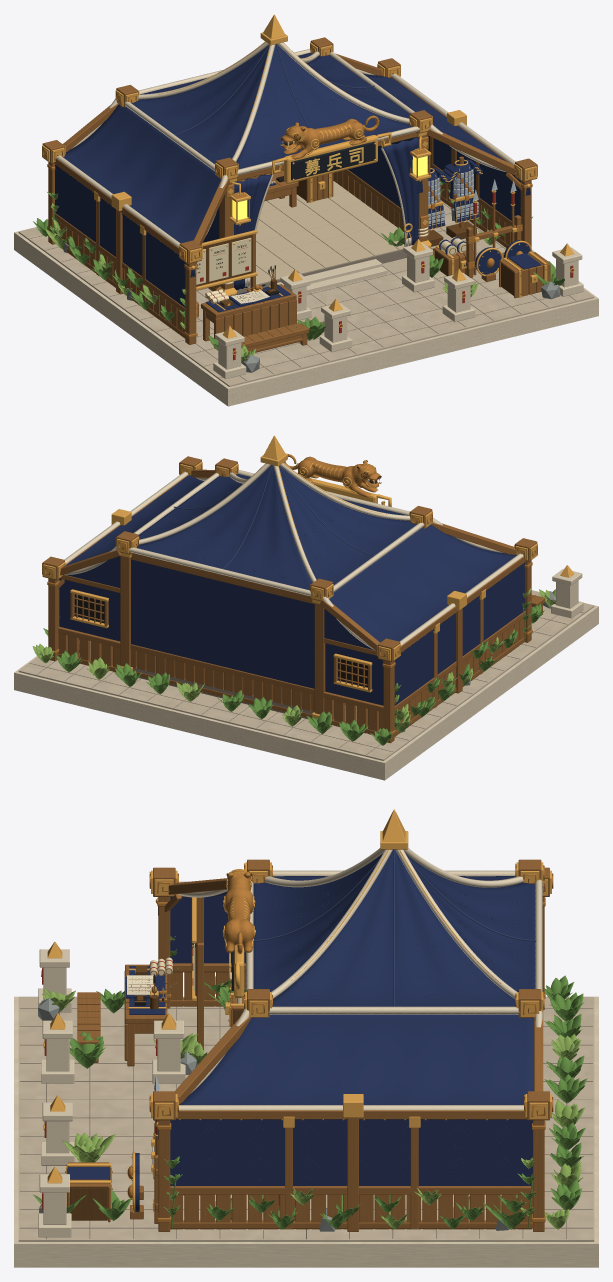
Rendered from recruitment-v20.glb.
The picture shows the model from 3 angles, top to bottom: view 1: azimuth 30°, elevation 25°; view 2: azimuth 150°, elevation 25°; view 3: azimuth 270°, elevation 25°; orthographic projection. The views are drawn at different scales.
Parts seen in each view (by area): view 1: SM_MB_Batch_6_MB_MAT_indigo_cloth.005, SM_MB_Batch_0_MB_MAT_ivory.005, SM_MB_Batch_1_MB_MAT_paving.005, SM_MB_Batch_10_MB_MAT_indigo_cloth.005, SM_MB_Batch_3_MB_MAT_ochre_wood.005, SM_MB_Batch_5_MB_MAT_light_wood.005, SM_MB_Batch_23_MB_MAT_warm_stone_tile.003, SM_MB_Batch_4_MB_MAT_antique_gold.005, SM_MB_Batch_7_MB_MAT_ivory.005, SM_MB_Batch_15_MB_MAT_tiger_bronze.005, SM_MB_Batch_21_MB_MAT_paper_leaf.003, SM_MB_Batch_2_MB_MAT_warm_mortar.005 (+9 smaller); view 2: SM_MB_Batch_6_MB_MAT_indigo_cloth.005, SM_MB_Batch_10_MB_MAT_indigo_cloth.005, SM_MB_Batch_0_MB_MAT_ivory.005, SM_MB_Batch_3_MB_MAT_ochre_wood.005, SM_MB_Batch_5_MB_MAT_light_wood.005, SM_MB_Batch_1_MB_MAT_paving.005, SM_MB_Batch_7_MB_MAT_ivory.005, SM_MB_Batch_4_MB_MAT_antique_gold.005, SM_MB_Batch_21_MB_MAT_paper_leaf.003, SM_MB_Batch_15_MB_MAT_tiger_bronze.005, SM_MB_Batch_24_MB_MAT_paper_leaf_light.003, SM_MB_Batch_2_MB_MAT_warm_mortar.005 (+3 smaller); view 3: SM_MB_Batch_6_MB_MAT_indigo_cloth.005, SM_MB_Batch_1_MB_MAT_paving.005, SM_MB_Batch_10_MB_MAT_indigo_cloth.005, SM_MB_Batch_0_MB_MAT_ivory.005, SM_MB_Batch_3_MB_MAT_ochre_wood.005, SM_MB_Batch_5_MB_MAT_light_wood.005, SM_MB_Batch_7_MB_MAT_ivory.005, SM_MB_Batch_21_MB_MAT_paper_leaf.003, SM_MB_Batch_4_MB_MAT_antique_gold.005, SM_MB_Batch_24_MB_MAT_paper_leaf_light.003, SM_MB_Batch_15_MB_MAT_tiger_bronze.005, SM_MB_Batch_2_MB_MAT_warm_mortar.005 (+5 smaller).
Part boxes in pixels (box(x1,y1,x2,y2)): SM_MB_Batch_6_MB_MAT_indigo_cloth.005: box(63, 44, 505, 243); SM_MB_Batch_0_MB_MAT_ivory.005: box(14, 147, 598, 406); SM_MB_Batch_1_MB_MAT_paving.005: box(18, 200, 594, 386); SM_MB_Batch_10_MB_MAT_indigo_cloth.005: box(55, 136, 541, 312); SM_MB_Batch_3_MB_MAT_ochre_wood.005: box(48, 135, 550, 352); SM_MB_Batch_5_MB_MAT_light_wood.005: box(42, 37, 549, 352); SM_MB_Batch_23_MB_MAT_warm_stone_tile.003: box(249, 181, 404, 286); SM_MB_Batch_4_MB_MAT_antique_gold.005: box(42, 43, 574, 354); SM_MB_Batch_7_MB_MAT_ivory.005: box(56, 42, 515, 247); SM_MB_Batch_15_MB_MAT_tiger_bronze.005: box(42, 45, 546, 337); SM_MB_Batch_21_MB_MAT_paper_leaf.003: box(33, 181, 564, 350); SM_MB_Batch_2_MB_MAT_warm_mortar.005: box(29, 200, 575, 380); SM_MB_Batch_6_MB_MAT_indigo_cloth.005: box(65, 465, 516, 642); SM_MB_Batch_10_MB_MAT_indigo_cloth.005: box(59, 556, 524, 705); SM_MB_Batch_0_MB_MAT_ivory.005: box(14, 569, 598, 780); SM_MB_Batch_3_MB_MAT_ochre_wood.005: box(48, 555, 542, 743); SM_MB_Batch_5_MB_MAT_light_wood.005: box(42, 456, 545, 735); SM_MB_Batch_1_MB_MAT_paving.005: box(18, 590, 594, 760); SM_MB_Batch_7_MB_MAT_ivory.005: box(64, 462, 523, 649); SM_MB_Batch_4_MB_MAT_antique_gold.005: box(42, 457, 574, 718); SM_MB_Batch_21_MB_MAT_paper_leaf.003: box(43, 601, 544, 745); SM_MB_Batch_15_MB_MAT_tiger_bronze.005: box(44, 454, 537, 735); SM_MB_Batch_24_MB_MAT_paper_leaf_light.003: box(32, 588, 556, 733); SM_MB_Batch_2_MB_MAT_warm_mortar.005: box(29, 612, 583, 754); SM_MB_Batch_6_MB_MAT_indigo_cloth.005: box(179, 850, 534, 1104); SM_MB_Batch_1_MB_MAT_paving.005: box(18, 996, 594, 1241); SM_MB_Batch_10_MB_MAT_indigo_cloth.005: box(67, 897, 532, 1211); SM_MB_Batch_0_MB_MAT_ivory.005: box(14, 949, 598, 1267); SM_MB_Batch_3_MB_MAT_ochre_wood.005: box(67, 894, 544, 1231); SM_MB_Batch_5_MB_MAT_light_wood.005: box(68, 859, 549, 1228); SM_MB_Batch_7_MB_MAT_ivory.005: box(178, 848, 542, 1110); SM_MB_Batch_21_MB_MAT_paper_leaf.003: box(33, 949, 587, 1229); SM_MB_Batch_4_MB_MAT_antique_gold.005: box(41, 862, 551, 1212); SM_MB_Batch_24_MB_MAT_paper_leaf_light.003: box(42, 936, 585, 1229); SM_MB_Batch_15_MB_MAT_tiger_bronze.005: box(65, 865, 553, 1222); SM_MB_Batch_2_MB_MAT_warm_mortar.005: box(20, 998, 592, 1239).
Size of the model in its own units: 10 by 6.32 by 10.
27 materials, 4 textured.
